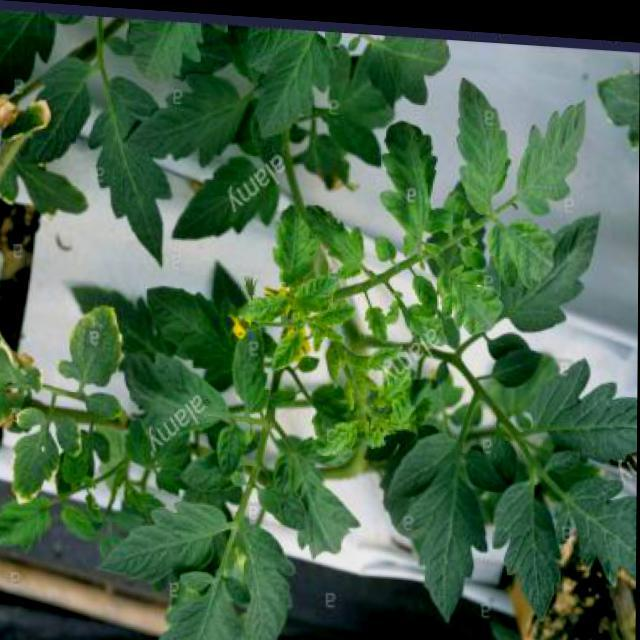Tomato healthy leaf: (268, 198, 317, 288), (283, 261, 342, 311), (233, 287, 302, 326)
